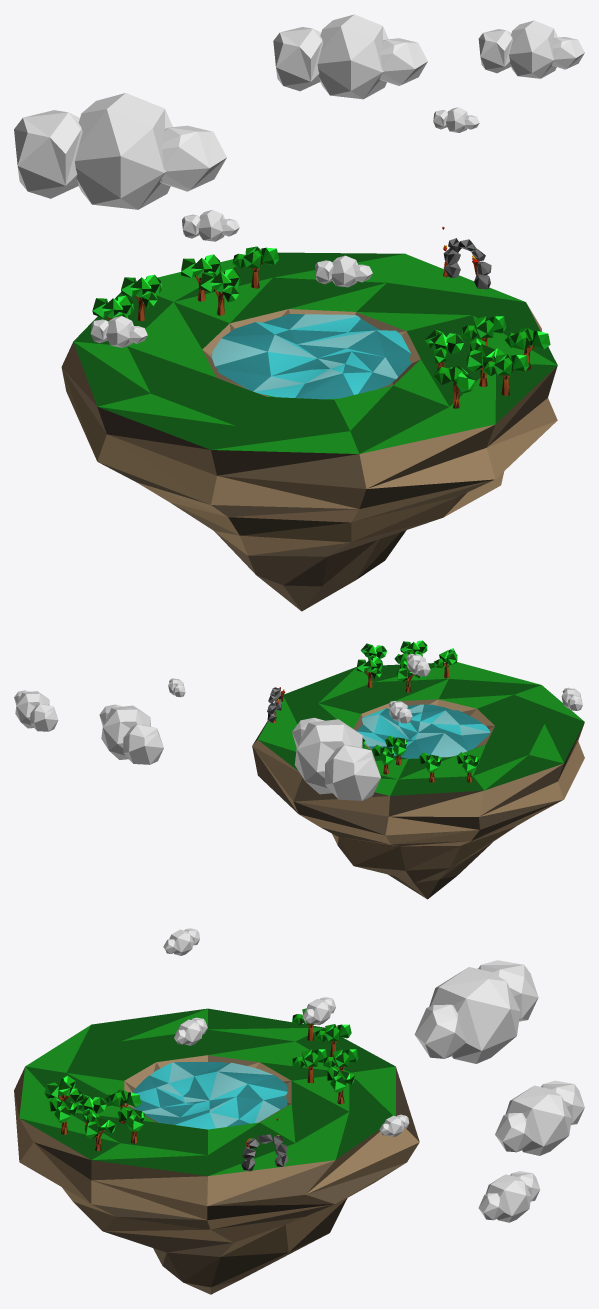
Rendered from Escenario_isla.FBX.
3 renders of one model, top to bottom at view 1: azimuth 30°, elevation 25°; view 2: azimuth 150°, elevation 25°; view 3: azimuth 270°, elevation 25°, orthographic. The views are drawn at different scales.
Visible parts, largest first — view 1: Cylinder001, Cylinder002, Sphere026, Sphere025, Sphere015, Sphere021, Sphere014, Sphere030, Sphere016, Sphere029, Sphere031; view 2: Cylinder001, Cylinder002, Sphere026, Sphere025, Sphere015, Sphere014, Sphere030, Sphere029; view 3: Cylinder001, Cylinder002, Sphere026, Sphere015, Sphere021, Sphere025, Sphere030, Sphere016, Sphere014, Sphere031.
Boxes of the visible parts, box(x1,y1,x2,y2) form: Cylinder001: box(61, 252, 557, 611); Cylinder002: box(212, 314, 411, 399); Sphere026: box(75, 93, 172, 209); Sphere025: box(14, 110, 82, 198); Sphere015: box(317, 14, 388, 99); Sphere021: box(160, 125, 226, 191); Sphere014: box(273, 27, 322, 91); Sphere030: box(509, 20, 557, 78); Sphere016: box(379, 38, 427, 85); Sphere029: box(478, 29, 512, 73); Sphere031: box(551, 37, 584, 69); Cylinder001: box(252, 662, 584, 899); Cylinder002: box(356, 704, 490, 758); Sphere026: box(294, 719, 362, 794); Sphere025: box(325, 745, 380, 800); Sphere015: box(101, 705, 150, 759); Sphere014: box(123, 724, 163, 764); Sphere030: box(15, 691, 49, 728); Sphere029: box(30, 704, 58, 731); Cylinder001: box(14, 1008, 419, 1294); Cylinder002: box(132, 1062, 287, 1129); Sphere026: box(429, 967, 520, 1063); Sphere015: box(505, 1085, 571, 1155); Sphere021: box(414, 1004, 465, 1058); Sphere025: box(478, 960, 538, 1021); Sphere030: box(486, 1174, 531, 1222); Sphere016: box(495, 1113, 532, 1152); Sphere014: box(541, 1080, 584, 1125); Sphere031: box(478, 1193, 504, 1220).
Size of the model in its own units: 823 by 456 by 749.
